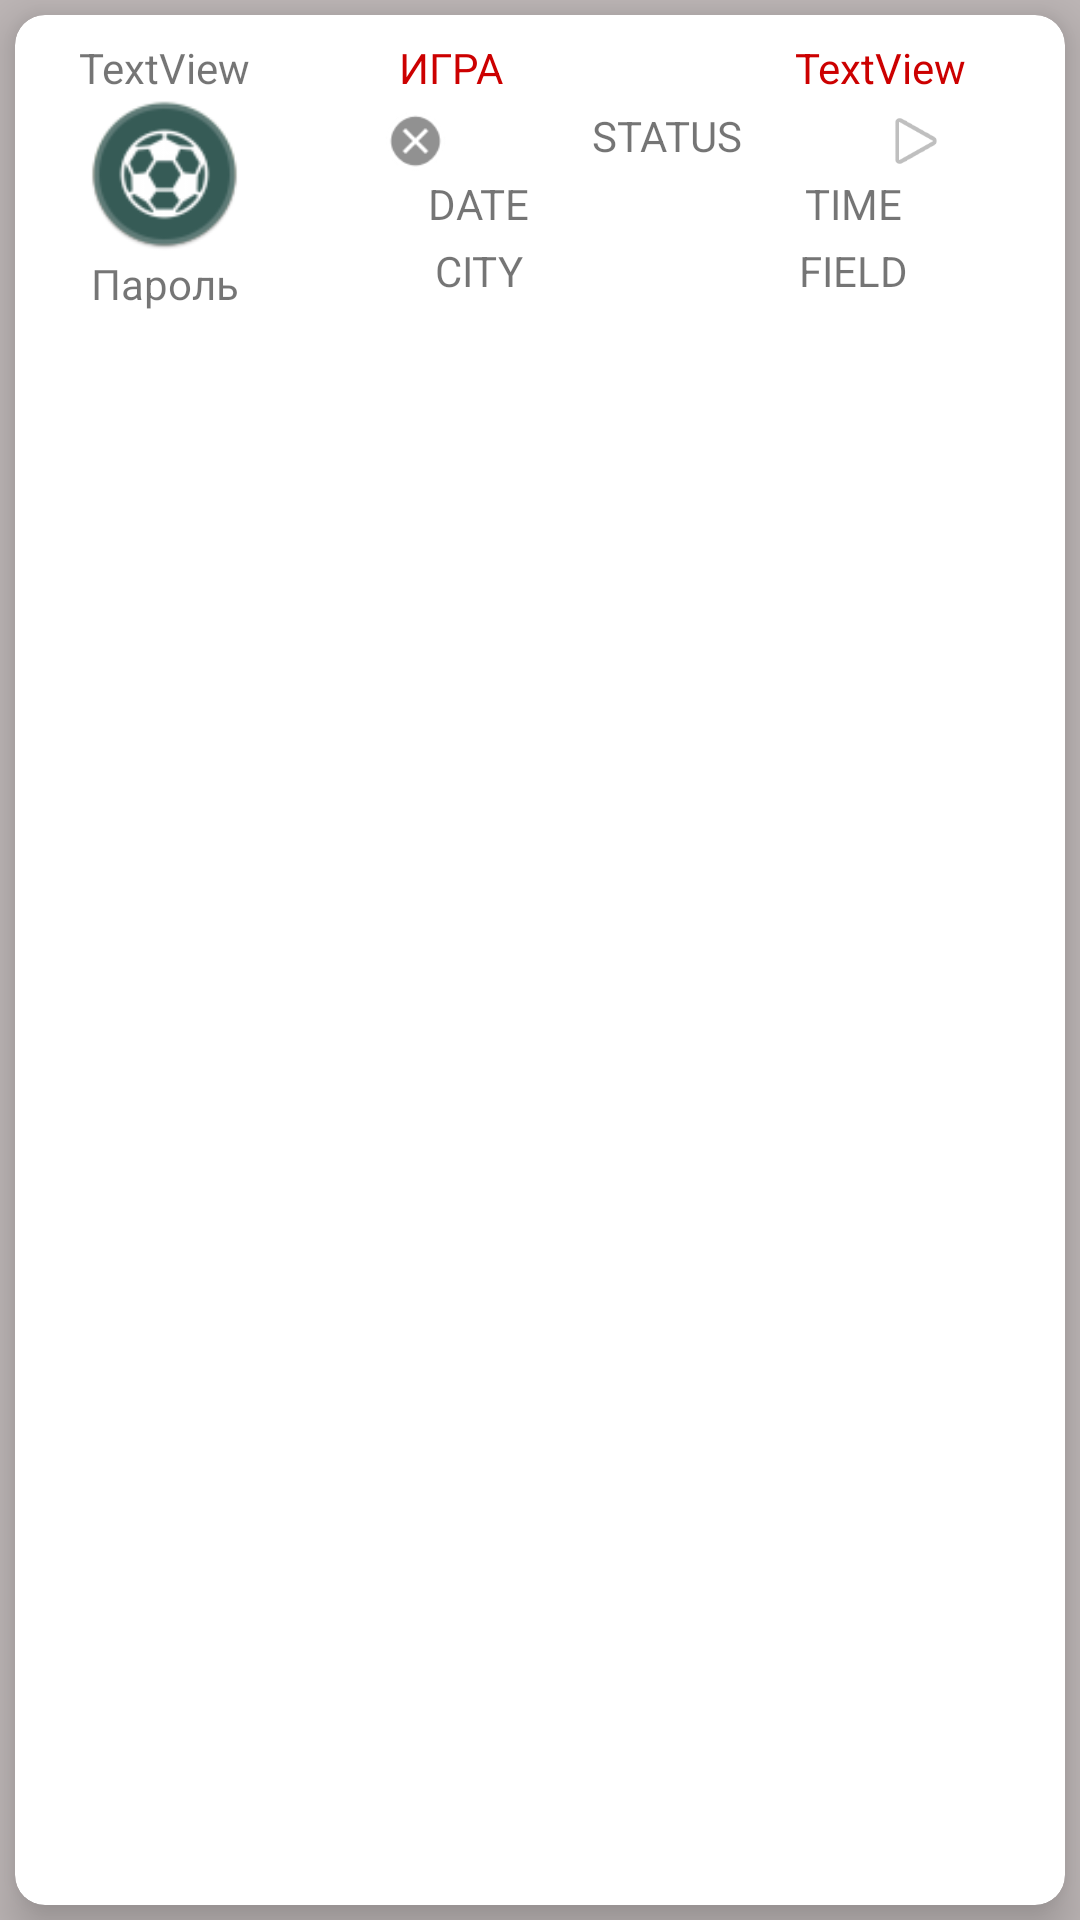

Where icons sit on this 1080px×1920px app screen, as bbox(x1, y1, x2, y2):
football ball: bbox(92, 101, 237, 248)
play: bbox(895, 118, 937, 164)
